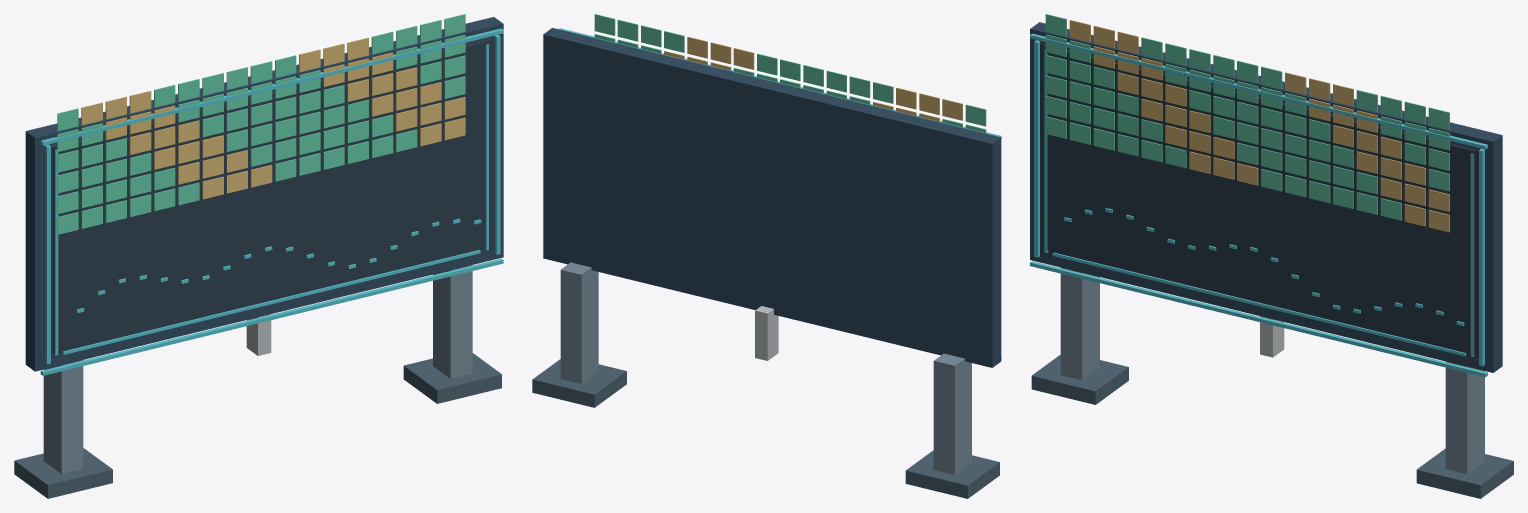
Rendered from 52_L73_HolographicCMPSCADA.glb.
The picture shows the model from 3 angles, left to right: view 1: azimuth 30°, elevation 25°; view 2: azimuth 150°, elevation 25°; view 3: azimuth 330°, elevation 25°; orthographic projection. The views are drawn at different scales.
Parts seen in each view (by area): view 1: HolographicCMPSCADA_Node_0056, HolographicCMPSCADA_Node_0000, HolographicCMPSCADA_Node_0183, HolographicCMPSCADA_Node_0185, HolographicCMPSCADA_Node_0181, HolographicCMPSCADA_Node_0186, HolographicCMPSCADA_Node_0184, HolographicCMPSCADA_Node_0001, HolographicCMPSCADA_Node_0182, HolographicCMPSCADA_Node_0054, HolographicCMPSCADA_Node_0180, HolographicCMPSCADA_Node_0179 (+3 smaller); view 2: HolographicCMPSCADA_Node_0000, HolographicCMPSCADA_Node_0183, HolographicCMPSCADA_Node_0185, HolographicCMPSCADA_Node_0186, HolographicCMPSCADA_Node_0184, HolographicCMPSCADA_Node_0055, HolographicCMPSCADA_Node_0182; view 3: HolographicCMPSCADA_Node_0056, HolographicCMPSCADA_Node_0000, HolographicCMPSCADA_Node_0185, HolographicCMPSCADA_Node_0183, HolographicCMPSCADA_Node_0181, HolographicCMPSCADA_Node_0186, HolographicCMPSCADA_Node_0184, HolographicCMPSCADA_Node_0182, HolographicCMPSCADA_Node_0001, HolographicCMPSCADA_Node_0054, HolographicCMPSCADA_Node_0179, HolographicCMPSCADA_Node_0180 (+3 smaller).
Boxes of the visible parts, box(x1,y1,x2,y2) form: HolographicCMPSCADA_Node_0056: box(53, 40, 489, 353); HolographicCMPSCADA_Node_0000: box(25, 17, 503, 371); HolographicCMPSCADA_Node_0183: box(43, 360, 83, 473); HolographicCMPSCADA_Node_0185: box(433, 265, 472, 378); HolographicCMPSCADA_Node_0181: box(40, 258, 503, 375); HolographicCMPSCADA_Node_0186: box(403, 353, 501, 403); HolographicCMPSCADA_Node_0184: box(14, 448, 112, 498); HolographicCMPSCADA_Node_0001: box(44, 38, 494, 357); HolographicCMPSCADA_Node_0182: box(40, 28, 503, 145); HolographicCMPSCADA_Node_0054: box(62, 250, 480, 354); HolographicCMPSCADA_Node_0180: box(494, 35, 500, 254); HolographicCMPSCADA_Node_0179: box(45, 144, 50, 364); HolographicCMPSCADA_Node_0000: box(543, 28, 1001, 367); HolographicCMPSCADA_Node_0183: box(933, 353, 971, 474); HolographicCMPSCADA_Node_0185: box(560, 262, 598, 383); HolographicCMPSCADA_Node_0186: box(532, 359, 626, 407); HolographicCMPSCADA_Node_0184: box(905, 450, 999, 498); HolographicCMPSCADA_Node_0055: box(755, 306, 778, 360); HolographicCMPSCADA_Node_0182: box(558, 28, 1001, 138); HolographicCMPSCADA_Node_0056: box(1043, 45, 1475, 354); HolographicCMPSCADA_Node_0000: box(1030, 22, 1502, 372); HolographicCMPSCADA_Node_0185: box(1445, 361, 1484, 474); HolographicCMPSCADA_Node_0183: box(1060, 267, 1099, 380); HolographicCMPSCADA_Node_0181: box(1030, 261, 1487, 377); HolographicCMPSCADA_Node_0186: box(1416, 448, 1513, 498); HolographicCMPSCADA_Node_0184: box(1031, 354, 1128, 404); HolographicCMPSCADA_Node_0182: box(1030, 33, 1487, 149); HolographicCMPSCADA_Node_0001: box(1040, 43, 1478, 358); HolographicCMPSCADA_Node_0054: box(1052, 252, 1466, 356); HolographicCMPSCADA_Node_0179: box(1034, 40, 1039, 257); HolographicCMPSCADA_Node_0180: box(1479, 149, 1484, 366).
Bounding box in the file's own units: 4.26 × 3.31 × 0.53.
